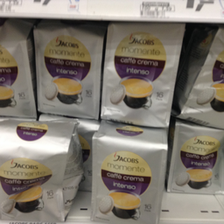chocolate: (1, 120, 82, 224), (102, 22, 182, 126), (89, 123, 167, 224), (32, 23, 102, 121), (182, 27, 224, 127), (168, 121, 224, 193), (1, 21, 39, 119)
